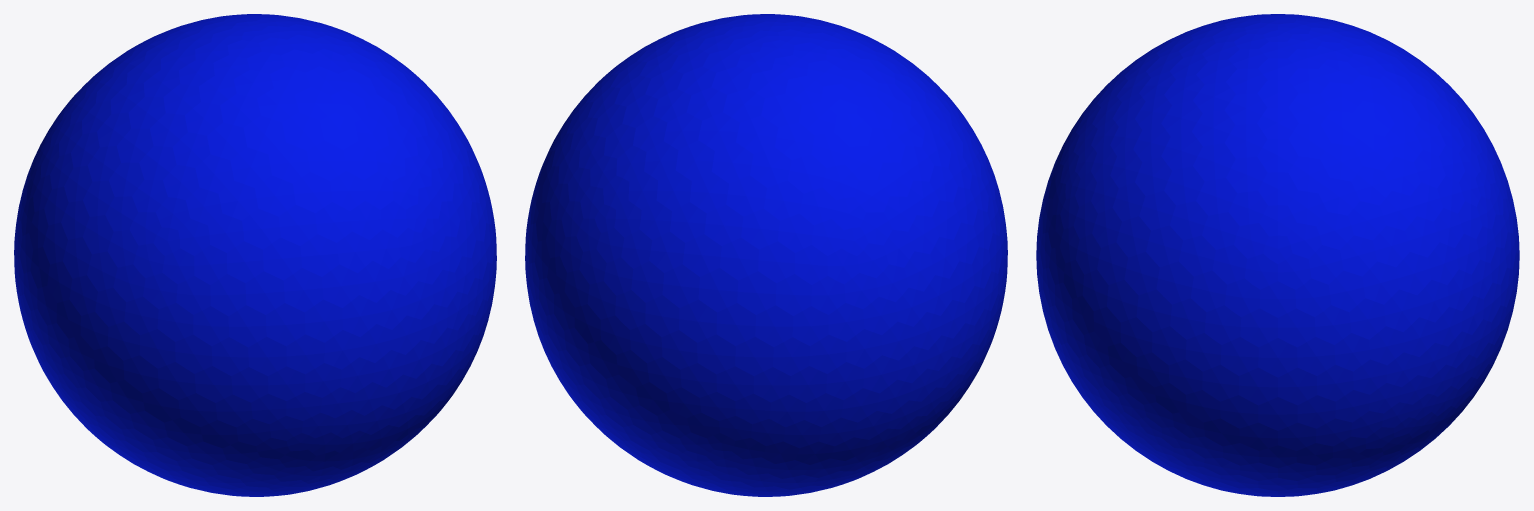
File: Ball.fbx
3 renders of one model, left to right at view 1: azimuth 30°, elevation 25°; view 2: azimuth 150°, elevation 25°; view 3: azimuth 270°, elevation 25°, orthographic.
Visible parts, largest first — view 1: Icosphere; view 2: Icosphere; view 3: Icosphere.
Part boxes in pixels (x1,y1,x2,y2): Icosphere: (14,14,496,496); Icosphere: (525,14,1007,496); Icosphere: (1036,14,1519,496).
Bounding box in the file's own units: 199 × 199 × 199.
